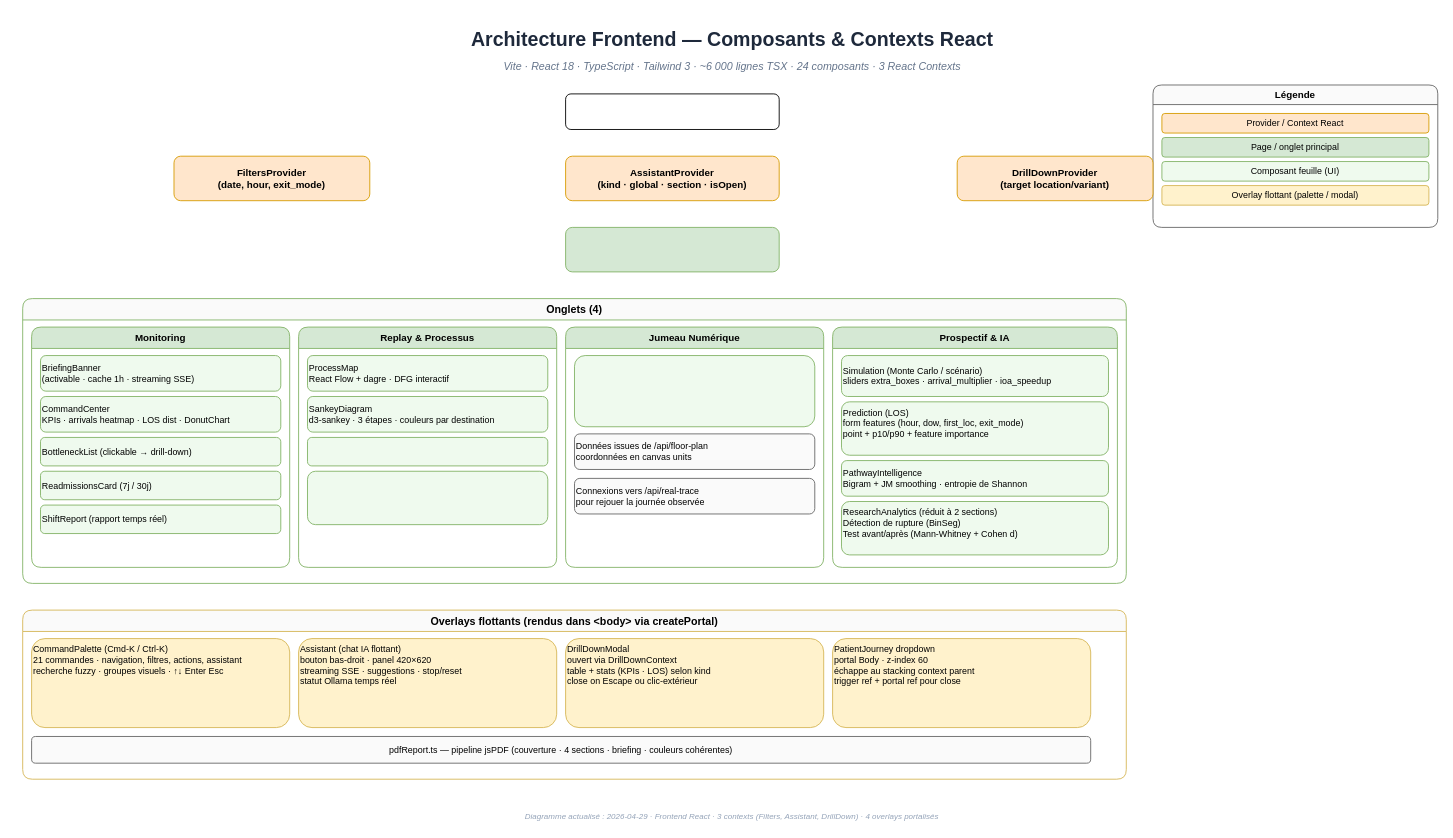
Image size: 1453x838. Some labels were removed from this diagram. Each missing label, with the centre of its shape:
"App.tsx (root)" belongs at point 672,111.
"AppInner Header · FilterBar · Main · Footer" belongs at point 672,249.
"DigitalTwin3D Three.js · plan 3D animé flux patients en temps réel simulé" belongs at point 694,391.
"PatientJourney Search · LOS range · liste portalisée · Gantt + Flow" belongs at point 427,497.
"VariantsList (clickable → drill-down)" belongs at point 427,451.
